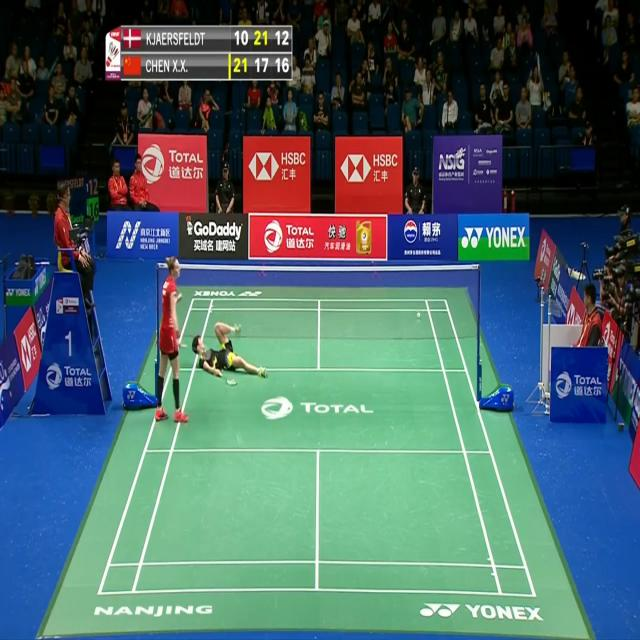Player1: (151, 253, 190, 426)
Player2: (191, 317, 273, 388)
